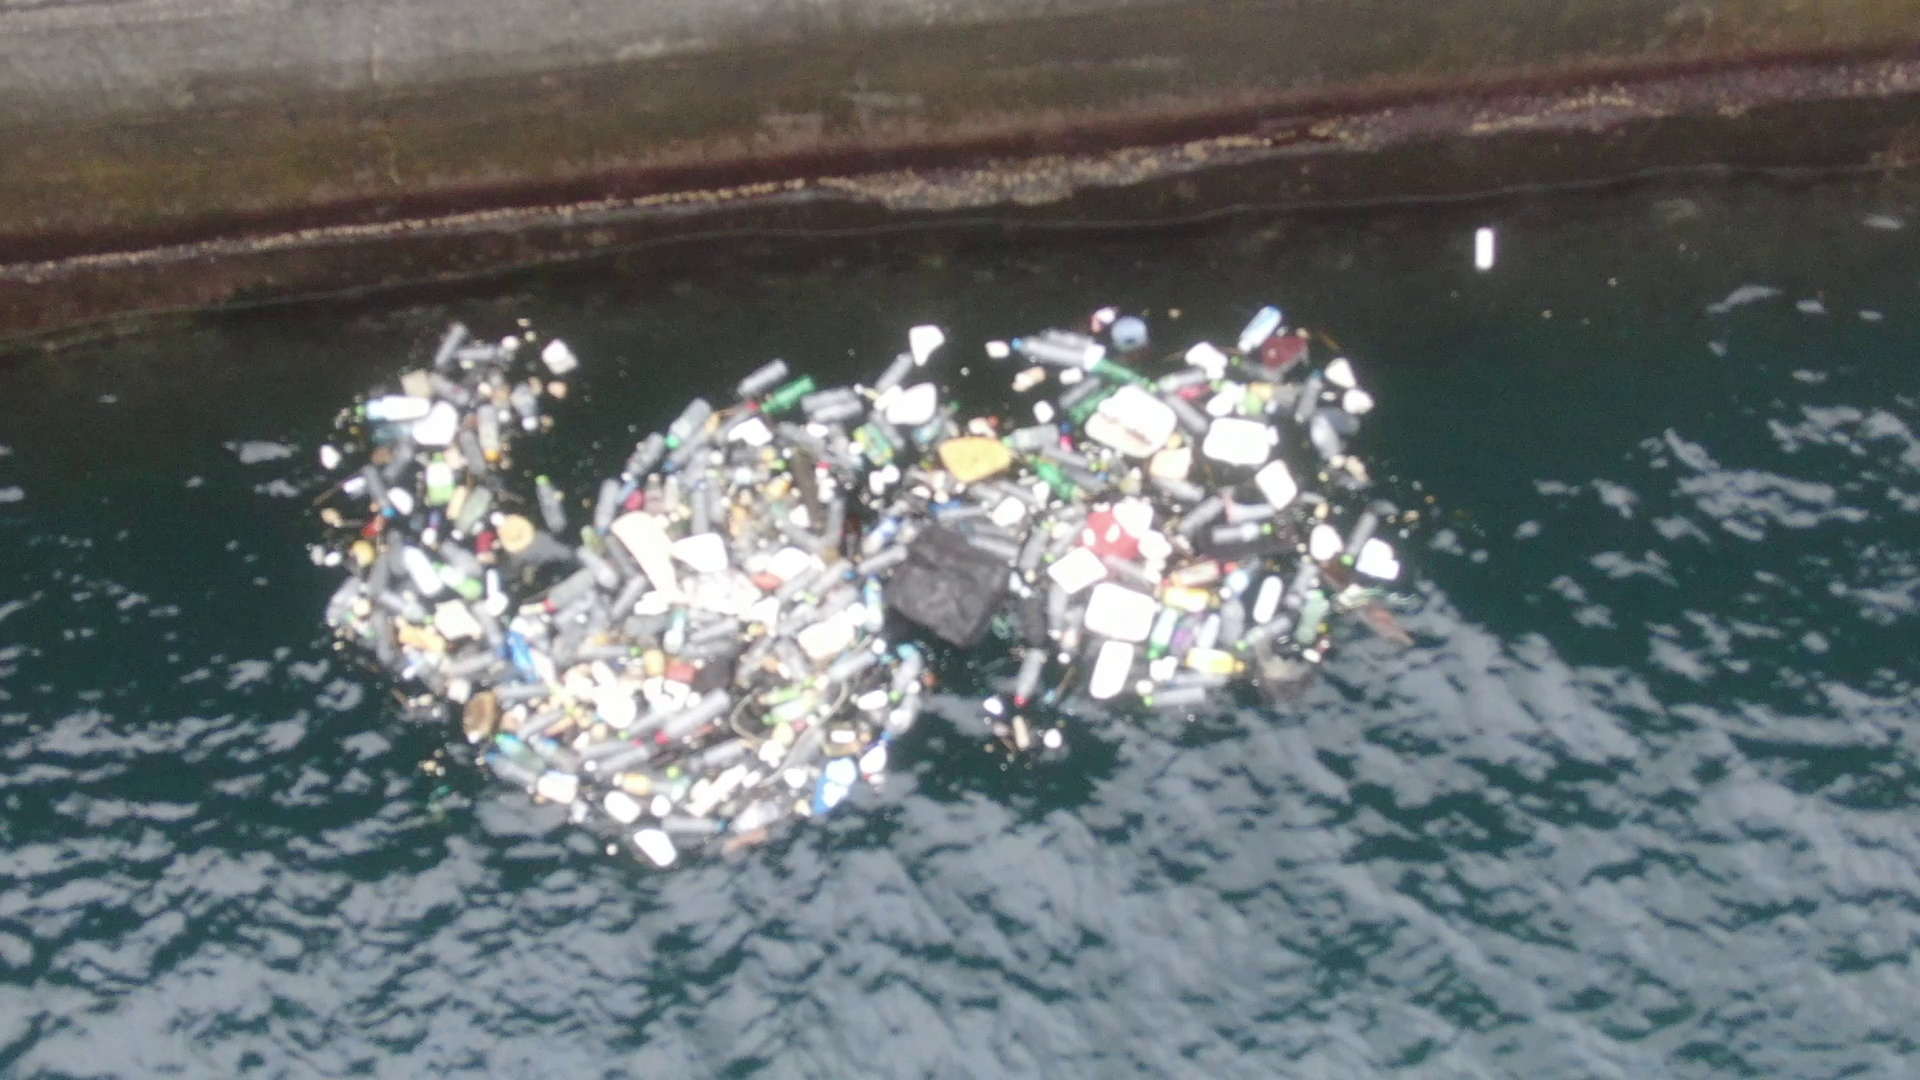bottle: (1462, 218, 1502, 273)
garbage: (316, 302, 1425, 901)
